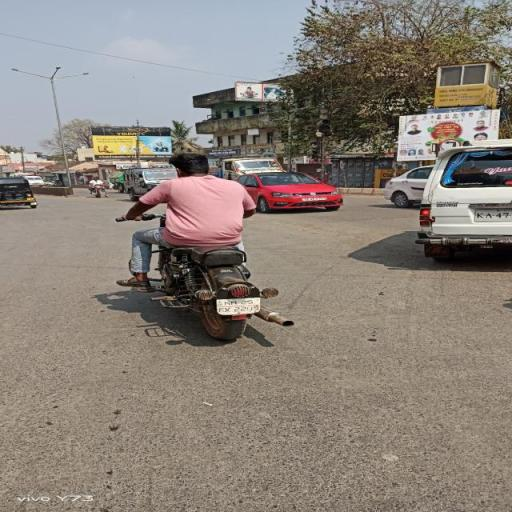bike: (112, 152, 298, 344)
numberplate: (214, 299, 262, 314)
withouthelmet: (175, 154, 210, 176)
